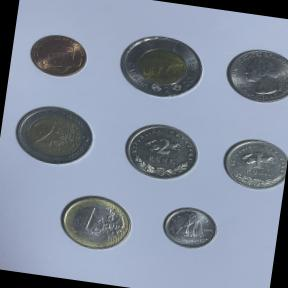coin: (109, 26, 212, 106), (7, 97, 101, 175), (116, 115, 208, 188), (53, 188, 136, 256), (217, 42, 288, 108), (24, 27, 94, 83), (156, 201, 224, 254)
